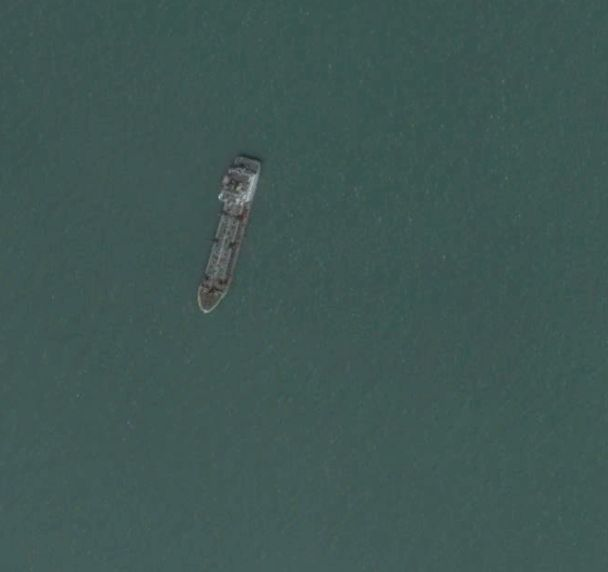boat: (196, 154, 264, 314)
